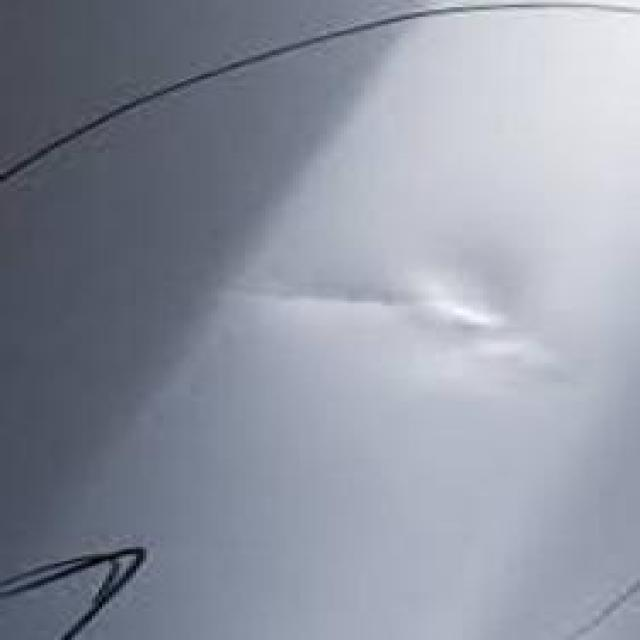dent: (188, 256, 598, 384)
